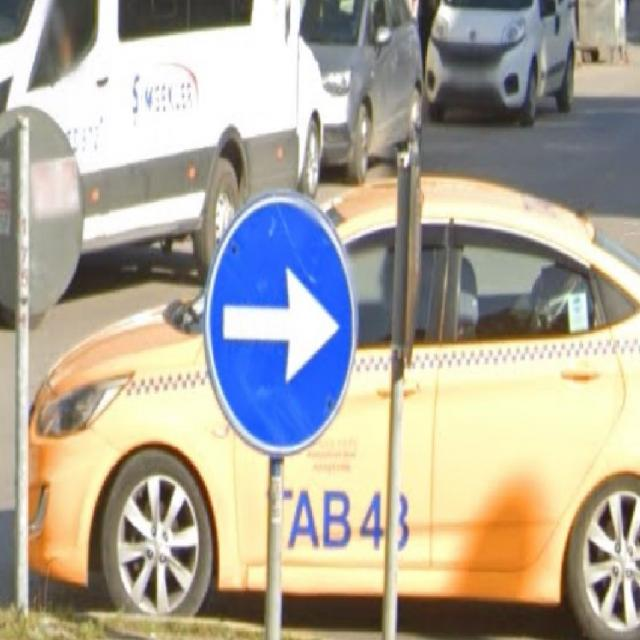Turn Right: (202, 190, 352, 449)
